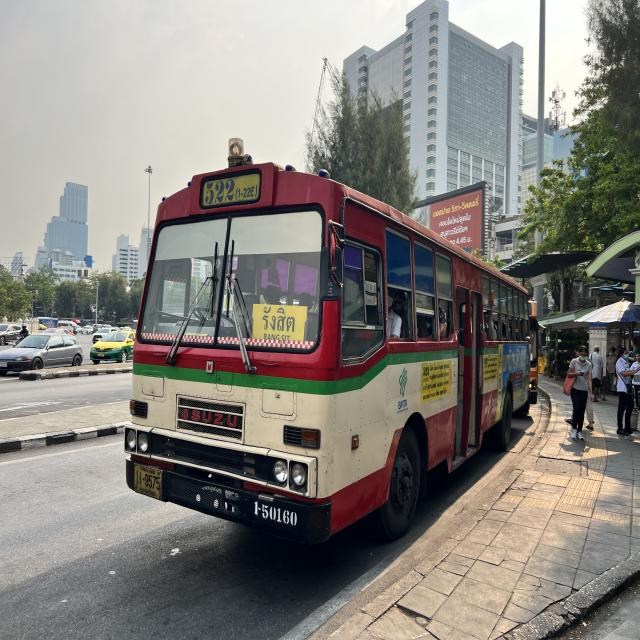BMTA-bus: (122, 162, 533, 550)
Bus-Line-Number: (200, 177, 260, 207)
Destination-Sign-Normal-Expressway: (252, 304, 307, 346)
